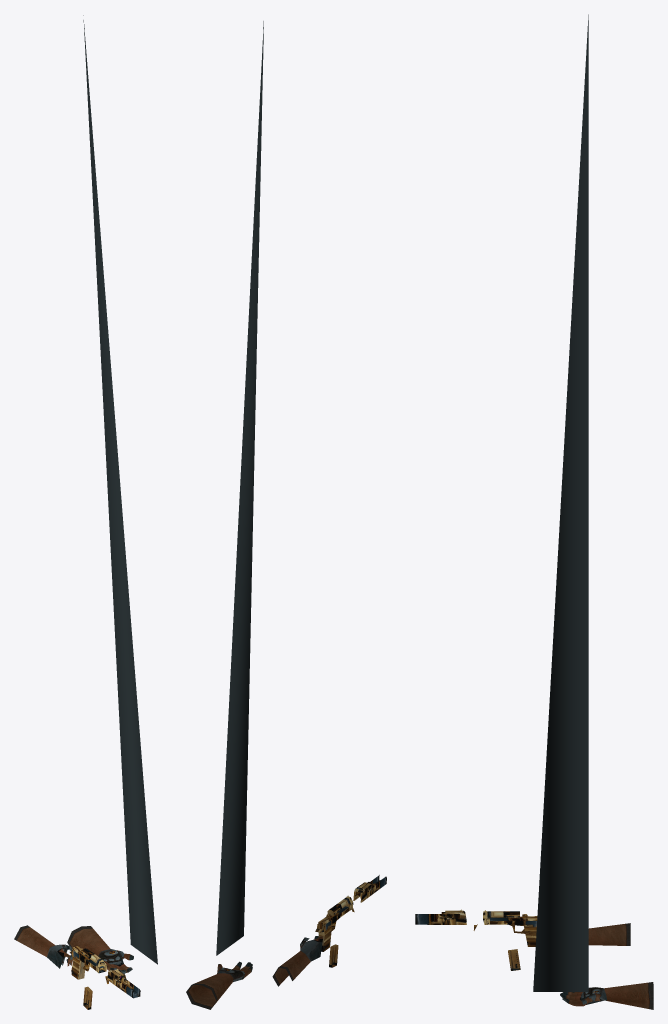
File: Pistolout.fbx
The picture shows the model from 3 angles, left to right: view 1: azimuth 30°, elevation 25°; view 2: azimuth 150°, elevation 25°; view 3: azimuth 270°, elevation 25°; orthographic projection.
Visible parts, largest first — view 1: surf_1, surf_0, surf_3; view 2: surf_1, surf_0, surf_3; view 3: surf_1, surf_0, surf_3.
Part boxes in pixels (bbox=[...]): surf_1: bbox=[47, 15, 157, 971]; surf_0: bbox=[14, 925, 133, 974]; surf_3: bbox=[69, 946, 140, 998]; surf_1: bbox=[216, 21, 322, 981]; surf_0: bbox=[186, 936, 322, 1009]; surf_3: bbox=[315, 875, 386, 951]; surf_1: bbox=[533, 14, 606, 1005]; surf_0: bbox=[560, 923, 653, 1009]; surf_3: bbox=[415, 909, 537, 946].
Size of the model in its own units: 27.23 by 260 by 57.33.
